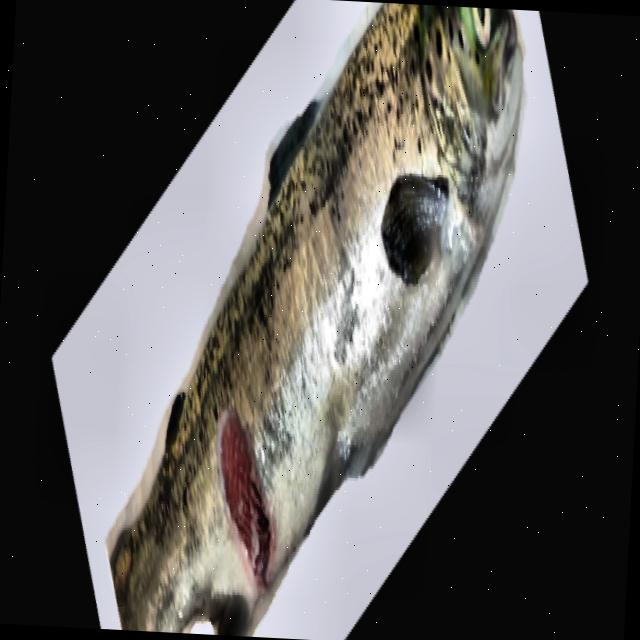mild_red: (110, 3, 492, 634)
wound: (218, 399, 275, 592)
